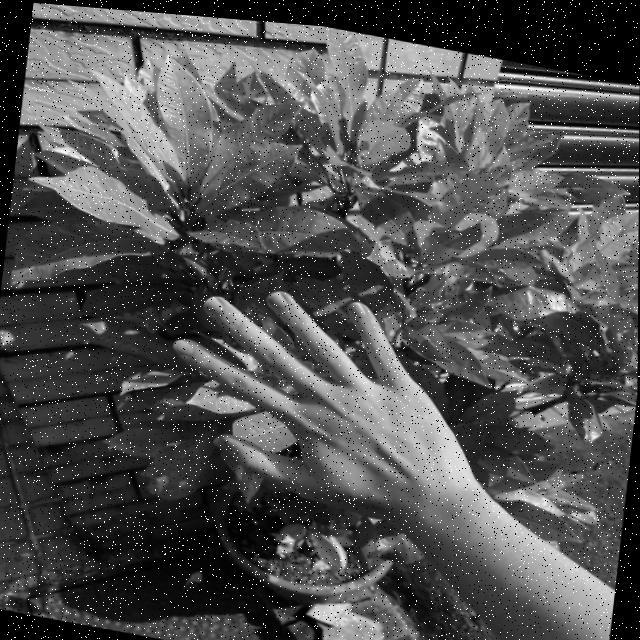no-gloves: (160, 262, 488, 530)
